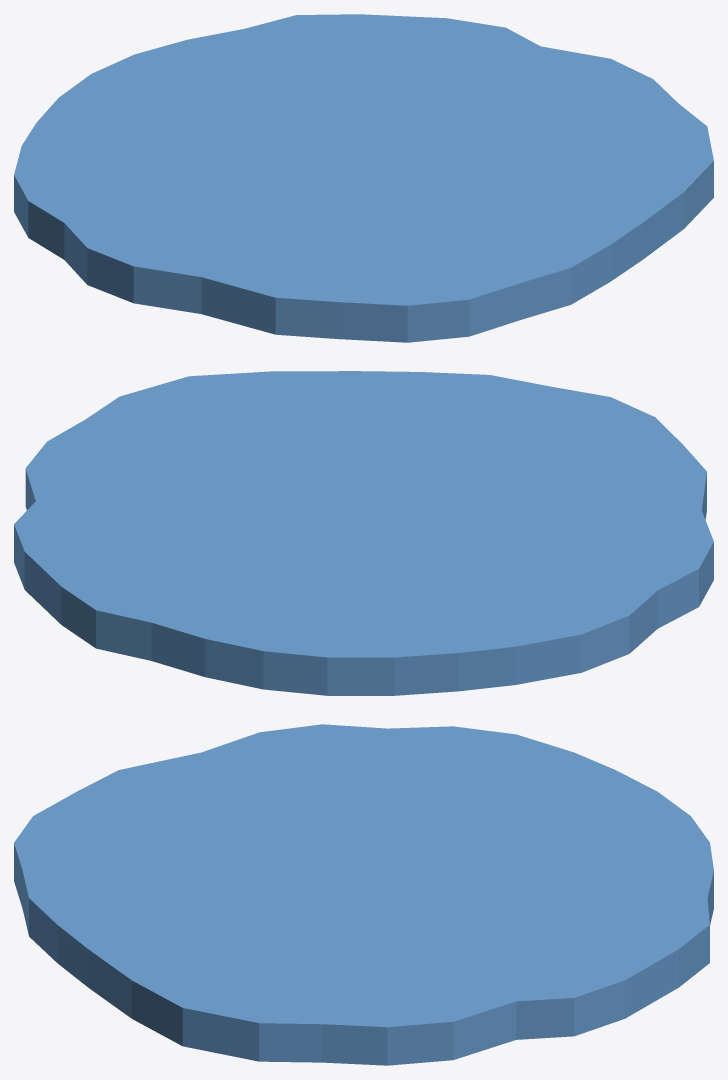
File: ams_water.gltf
3 renders of one model, top to bottom at view 1: azimuth 30°, elevation 25°; view 2: azimuth 150°, elevation 25°; view 3: azimuth 270°, elevation 25°, orthographic. The views are drawn at different scales.
Parts seen in each view (by area): view 1: Cylinder; view 2: Cylinder; view 3: Cylinder.
Boxes of the visible parts, <box> form: Cylinder: <box>14,14,713,342</box>; Cylinder: <box>14,371,713,695</box>; Cylinder: <box>14,724,713,1065</box>.
Bounding box in the file's own units: 2.84 × 0.168 × 2.77.
